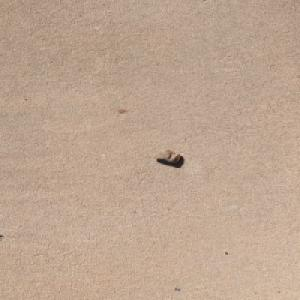Rock: (152, 148, 181, 162)
